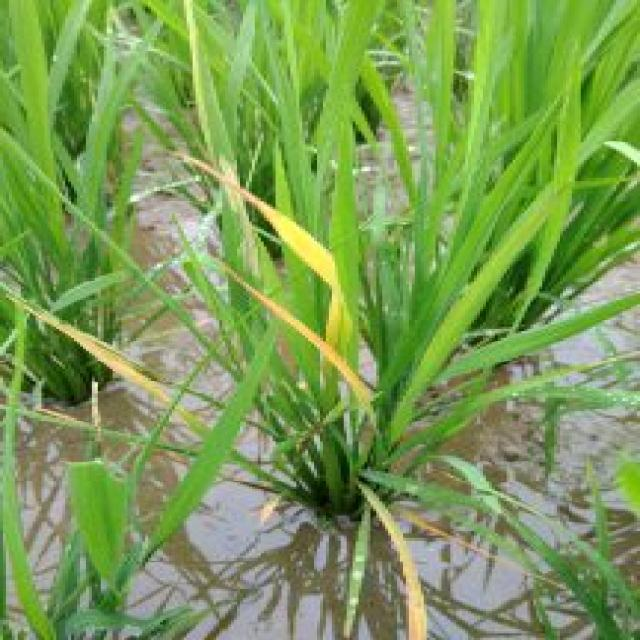Tungro: (182, 136, 376, 358), (3, 269, 212, 431), (357, 482, 429, 639)
